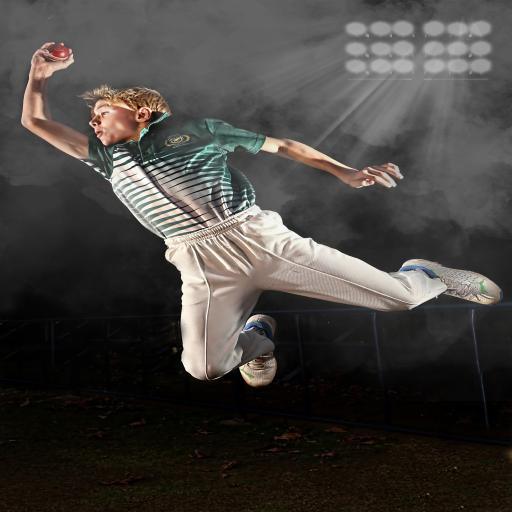shoe: (400, 260, 502, 304), (240, 352, 276, 386)
